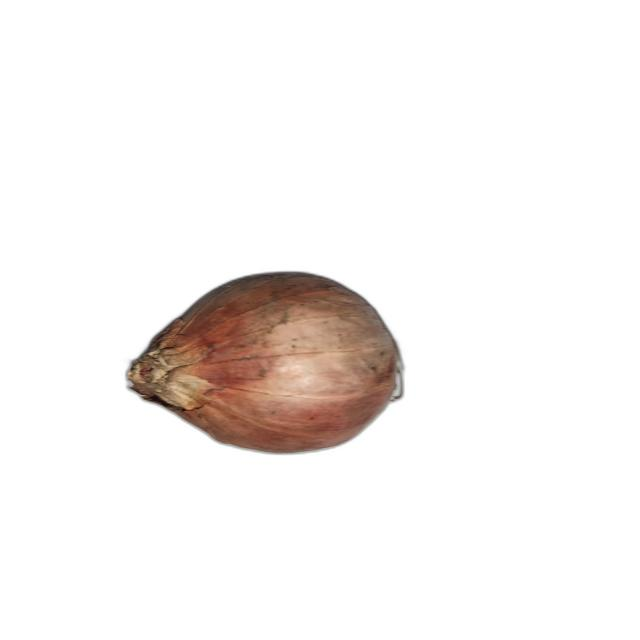onion: (123, 272, 406, 455)
